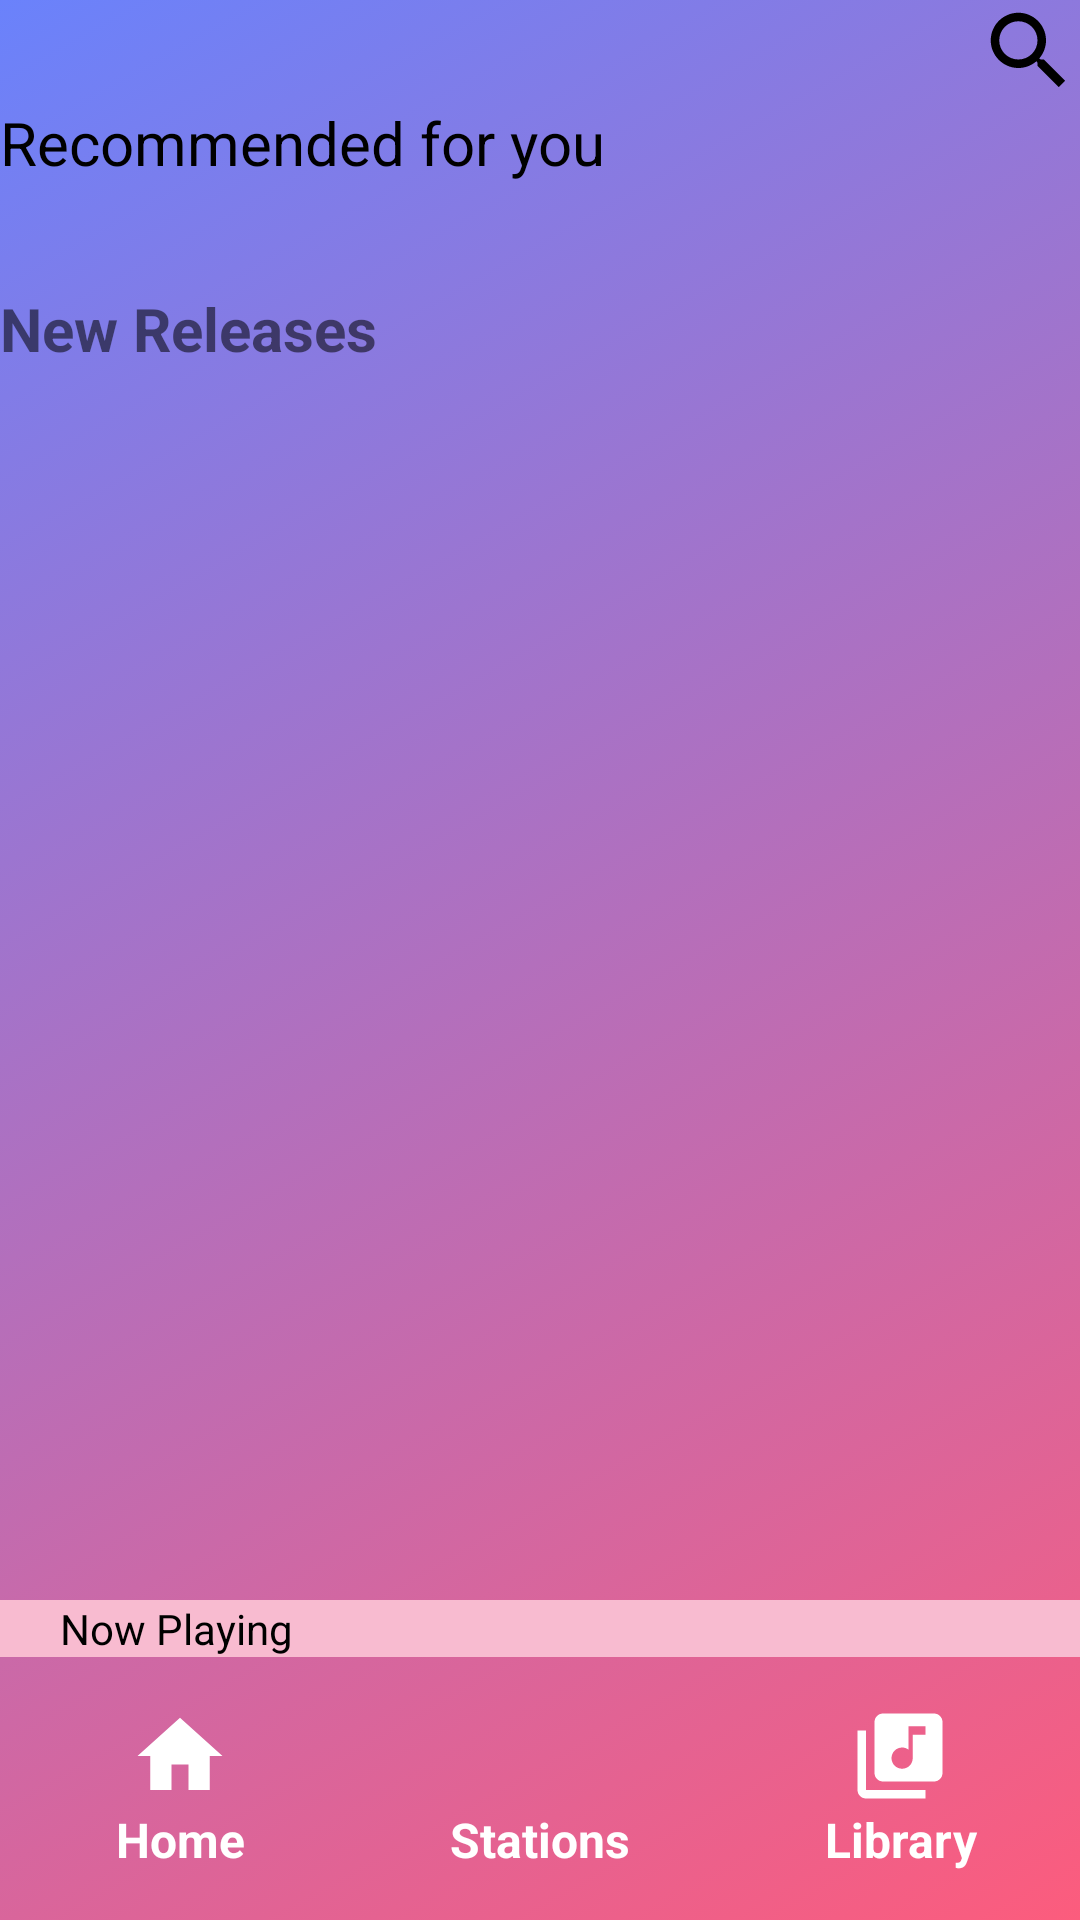

Screen size 1080px×1920px. Icon name, then its center in pixels as (x=x, y=y):
search: (x=1027, y=49)
